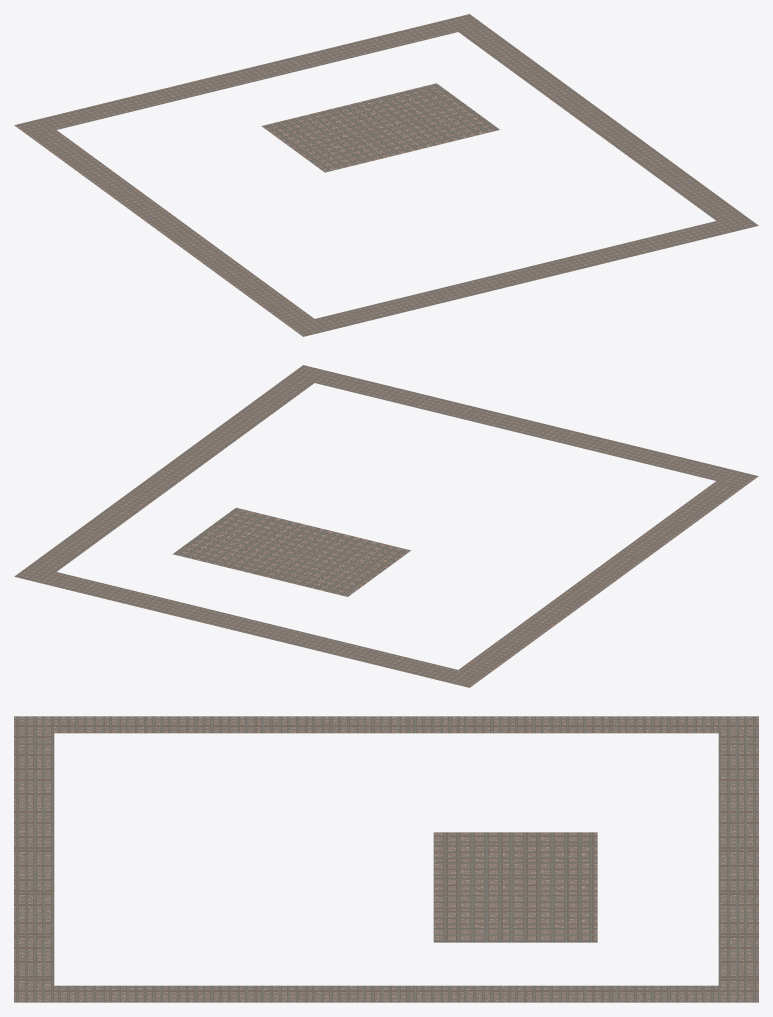
File: kd_stage_136599_19_39_bounded.glb
3 renders of one model, top to bottom at view 1: azimuth 30°, elevation 25°; view 2: azimuth 150°, elevation 25°; view 3: azimuth 270°, elevation 25°, orthographic. The views are drawn at different scales.
Visible parts, largest first — view 1: kd_stage_136599_19_39_bounded; view 2: kd_stage_136599_19_39_bounded; view 3: kd_stage_136599_19_39_bounded.
Boxes of the visible parts, x1,y1,x2,y2 form: kd_stage_136599_19_39_bounded: (14,14,758,336); kd_stage_136599_19_39_bounded: (14,365,758,687); kd_stage_136599_19_39_bounded: (14,716,758,1002).
Size of the model in its own units: 5.35 by 0 by 5.89.
Materials: 1 (1 with a texture image).
